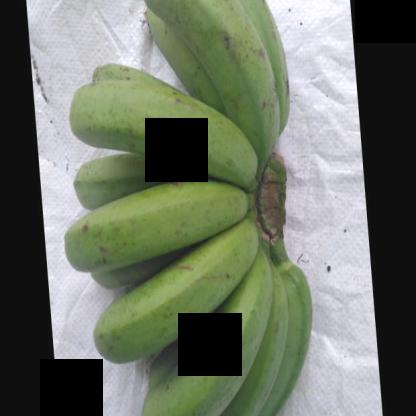unripe: (80, 225, 253, 383), (59, 77, 283, 188), (136, 0, 281, 168), (53, 178, 250, 272), (155, 284, 285, 415)
